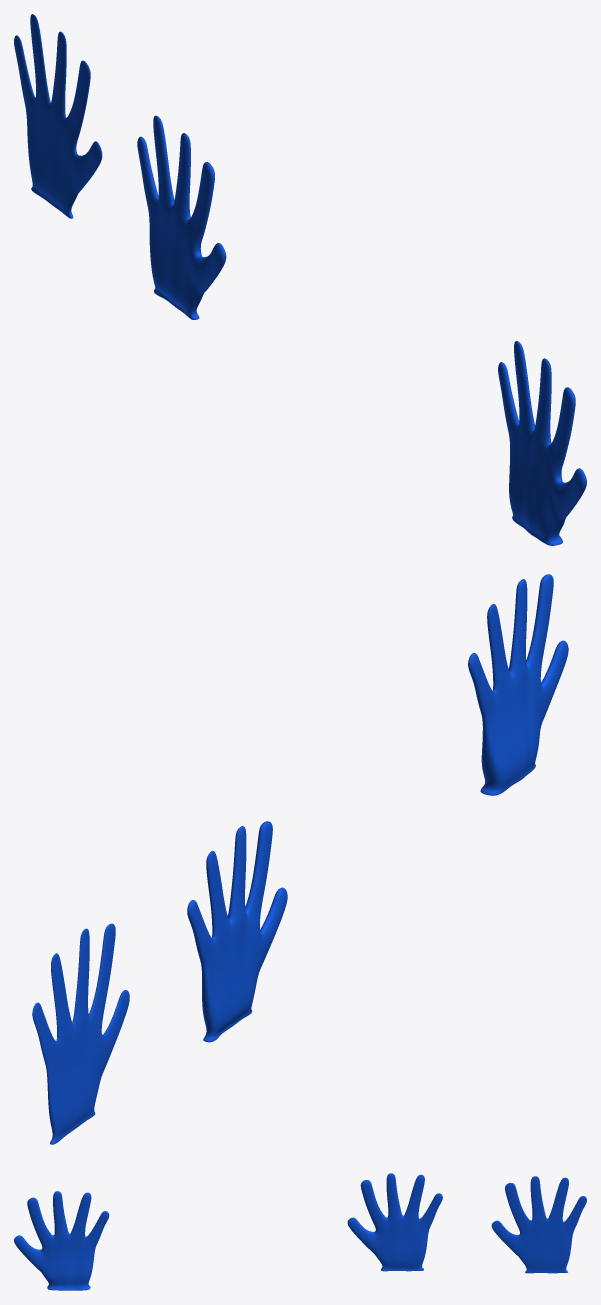
Rendered from rubberGlove.fbx.
3 renders of one model, top to bottom at view 1: azimuth 30°, elevation 25°; view 2: azimuth 150°, elevation 25°; view 3: azimuth 270°, elevation 25°, orthographic. The views are drawn at different scales.
Visible parts, largest first — view 1: Cube.002, Cube.001, Cube.003; view 2: Cube.002, Cube.001, Cube.003; view 3: Cube.002, Cube.001, Cube.003.
Boxes of the visible parts, <box> form: Cube.002: <box>498,341,586,545</box>; Cube.001: <box>137,115,226,319</box>; Cube.003: <box>14,14,102,218</box>; Cube.002: <box>468,574,568,795</box>; Cube.001: <box>187,821,287,1042</box>; Cube.003: <box>32,923,129,1144</box>; Cube.002: <box>14,1191,109,1290</box>; Cube.001: <box>347,1173,442,1271</box>; Cube.003: <box>491,1176,586,1273</box>.
Size of the model in its own units: 424 by 1129 by 5782.
